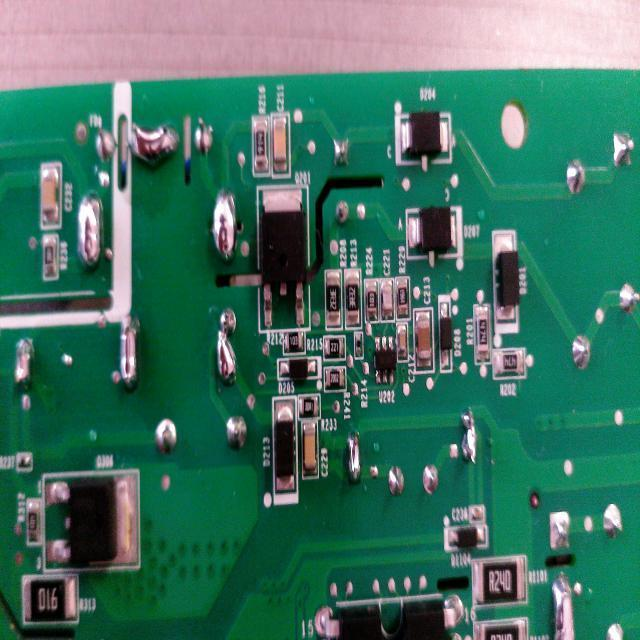Soldering shorted: (208, 188, 243, 274), (124, 120, 182, 169), (76, 188, 106, 274), (212, 305, 242, 385), (118, 309, 146, 393), (550, 564, 580, 640), (14, 329, 37, 400), (460, 401, 480, 475), (346, 422, 366, 492)
